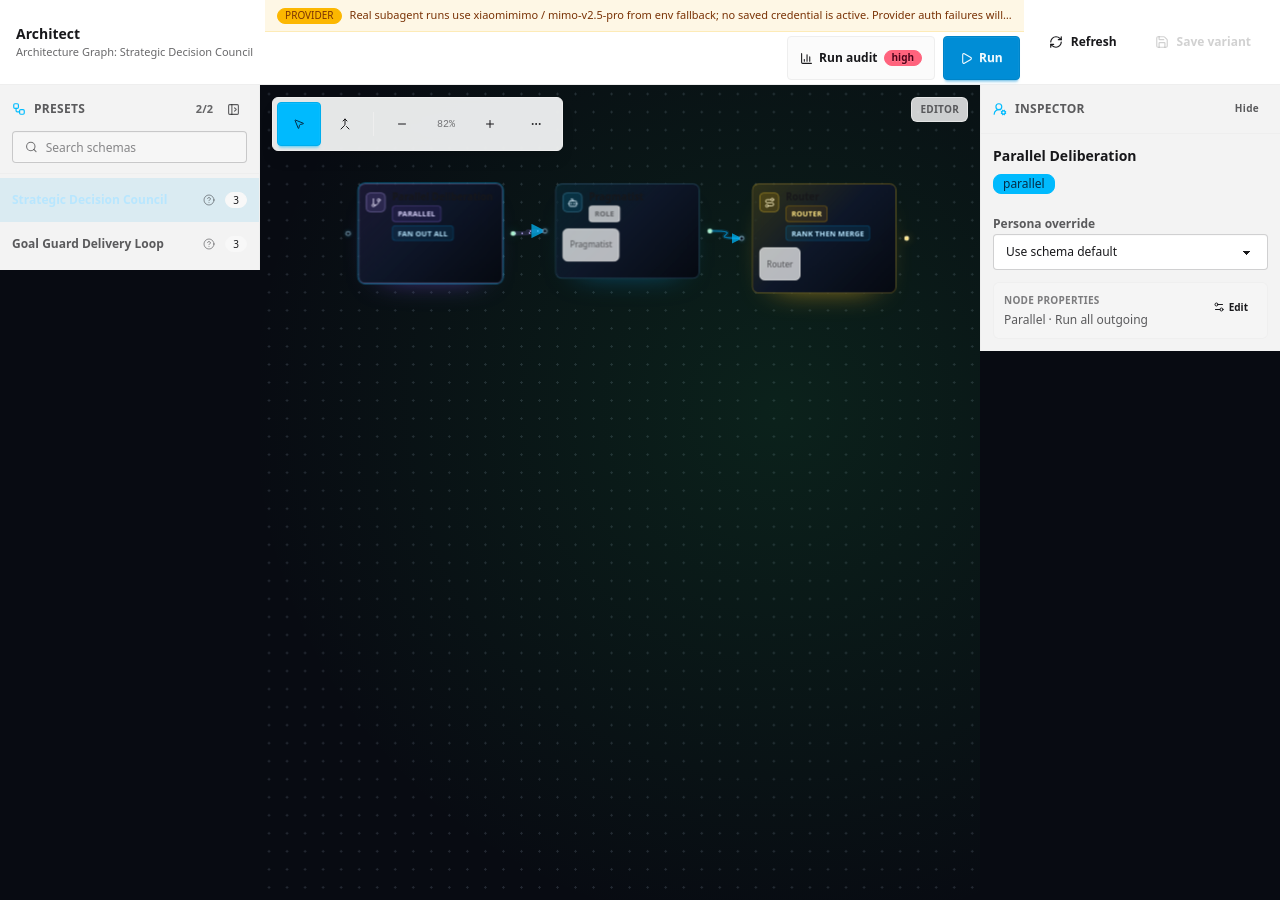
Test: ArchitectPage › shows inspector details when selecting a node and a slot
The width and height of the screenshot is (1280, 900).
Click the button with test id "architect-node-pragmatist" at (640, 206), box [589, 191, 692, 222]
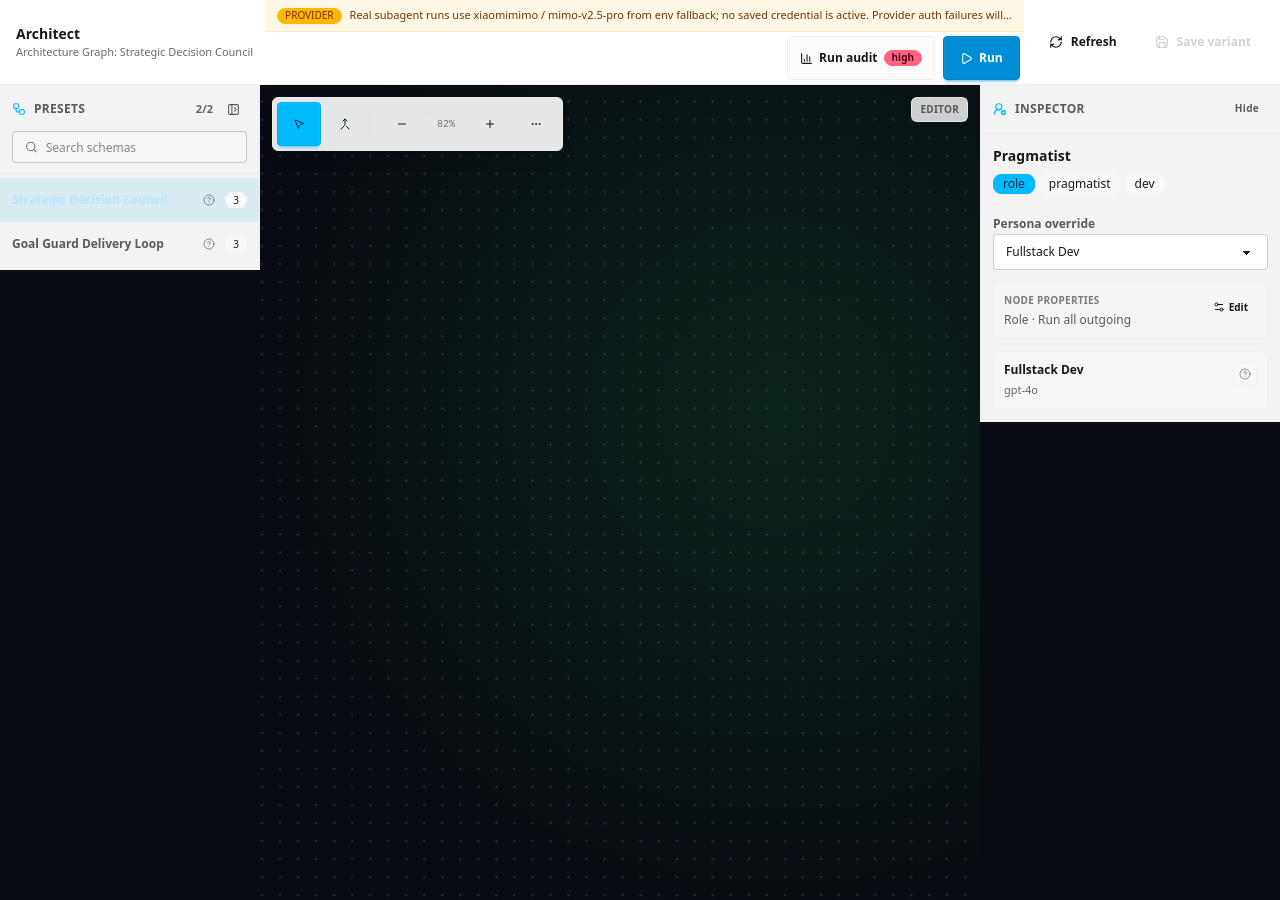
Result: the element with test id "architect-inspector" shows "Pragmatist" at [993, 146, 1071, 165]
Result: the element with test id "architect-inspector" shows "role" at [1003, 175, 1025, 192]
Result: the text with test id "architect-node-properties-summary" shows "Role" at [1004, 311, 1029, 328]
Click the button with test id "architect-node-properties-open" at (1230, 307), box [1204, 293, 1257, 321]
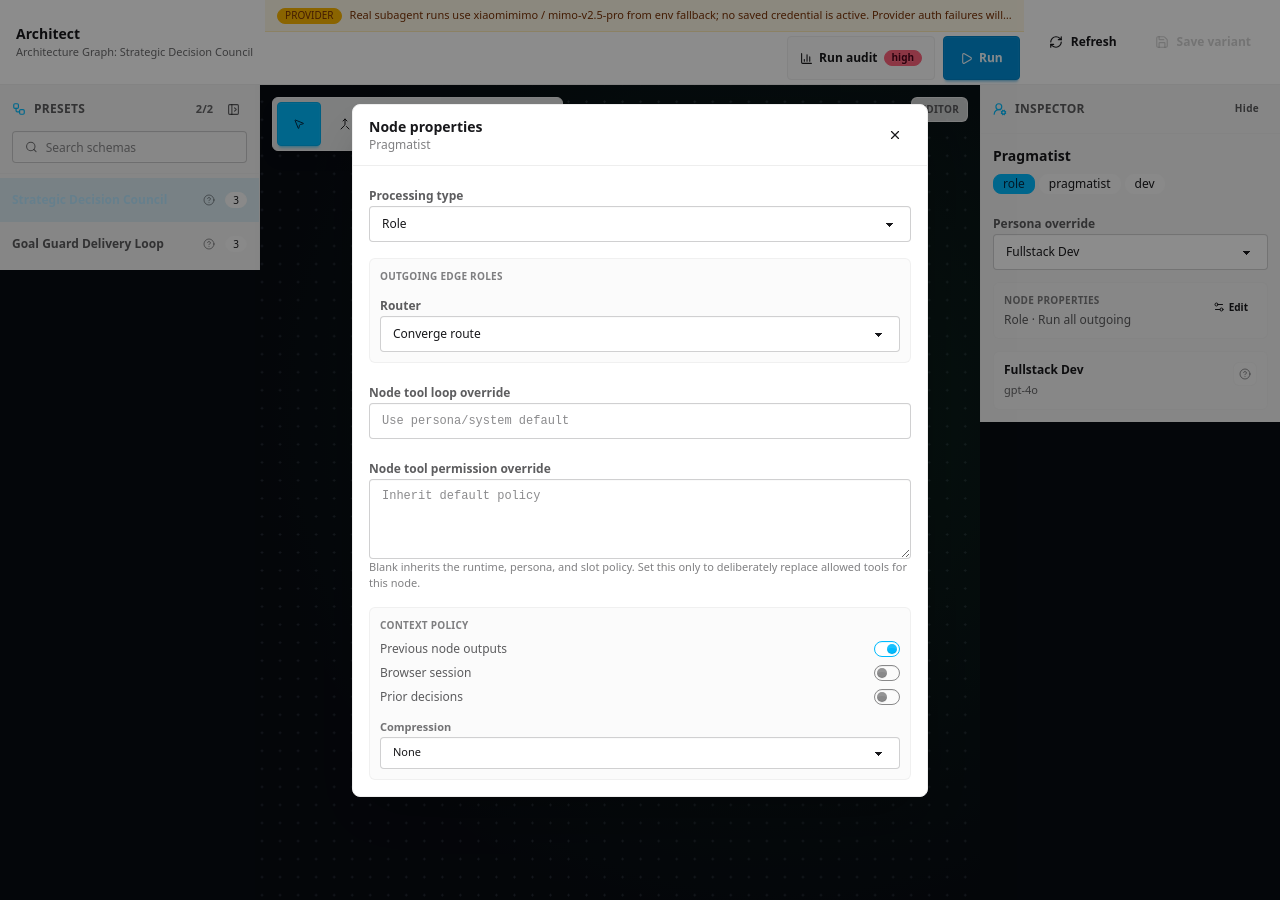
Result: the dropdown with test id "architect-node-kind-select" shows "Role" at [369, 206, 911, 242]
Click the button with test id "architect-node-properties-close" at (895, 134), box [879, 118, 911, 150]
(page scrolled)
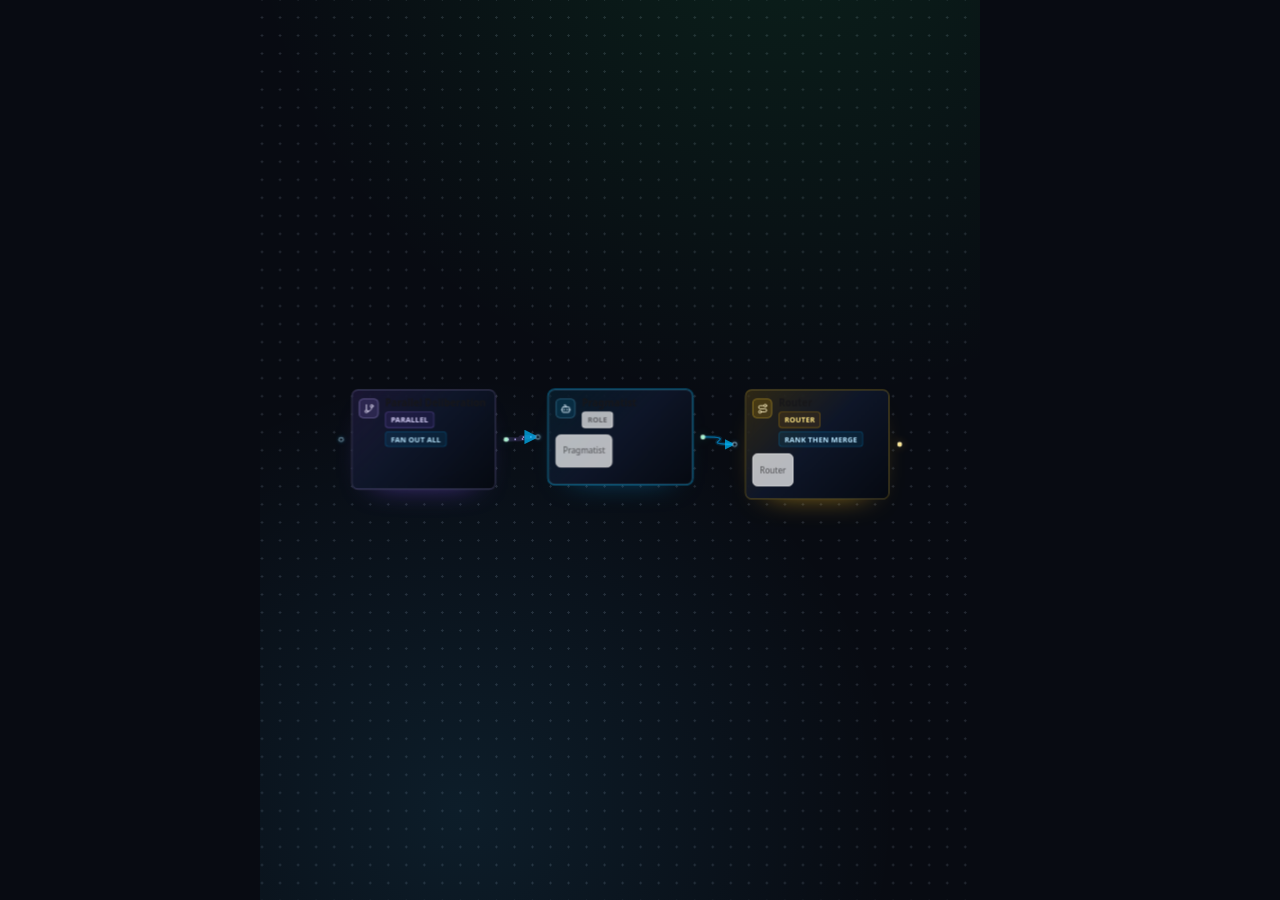
Click the button with test id "architect-slot-pragmatist" at (584, 450), box [556, 434, 612, 467]
(page scrolled)
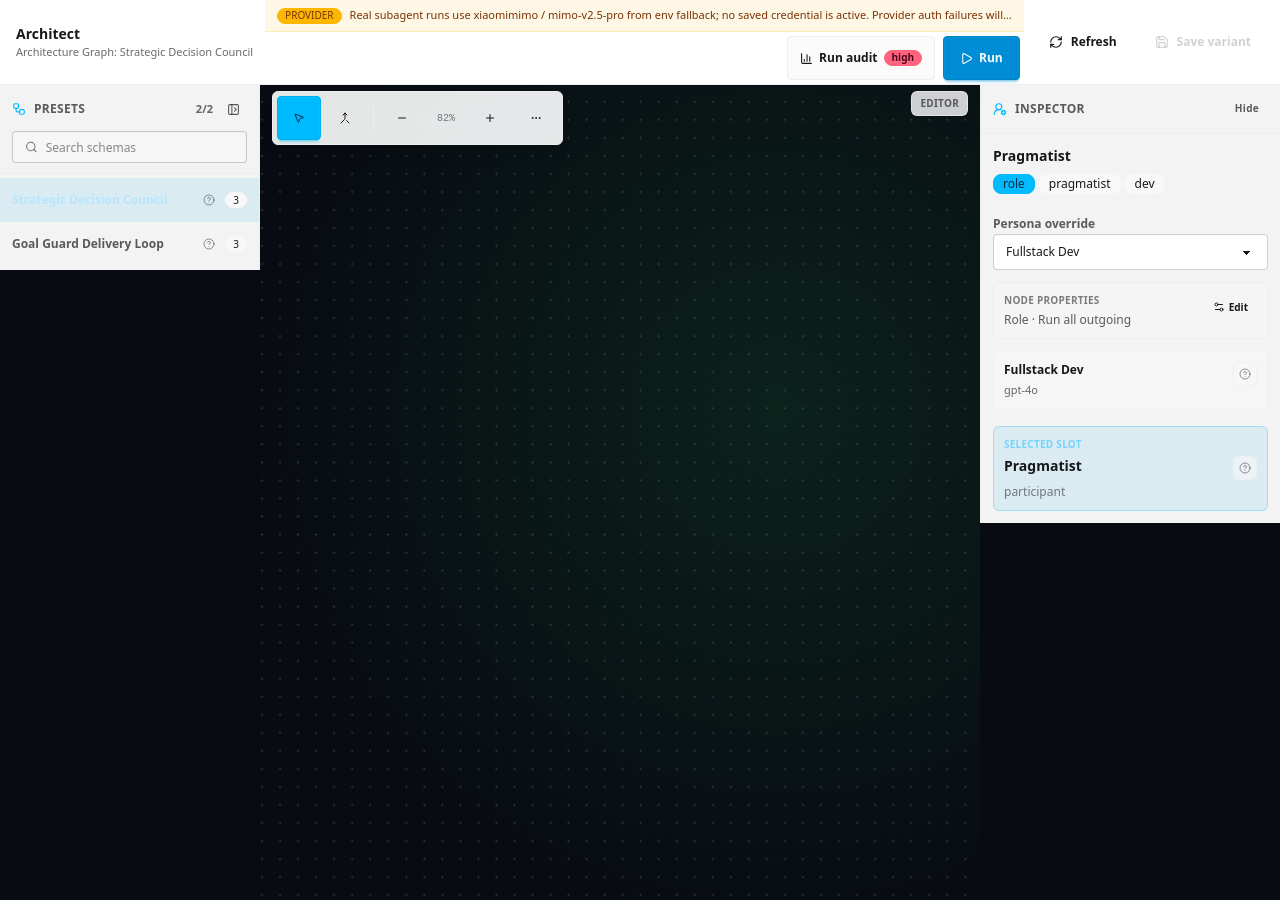
Result: the element with test id "architect-inspector" shows "Pragmatist" at [993, 146, 1071, 165]
Result: the element with test id "architect-inspector" shows "participant" at [1004, 482, 1065, 500]
